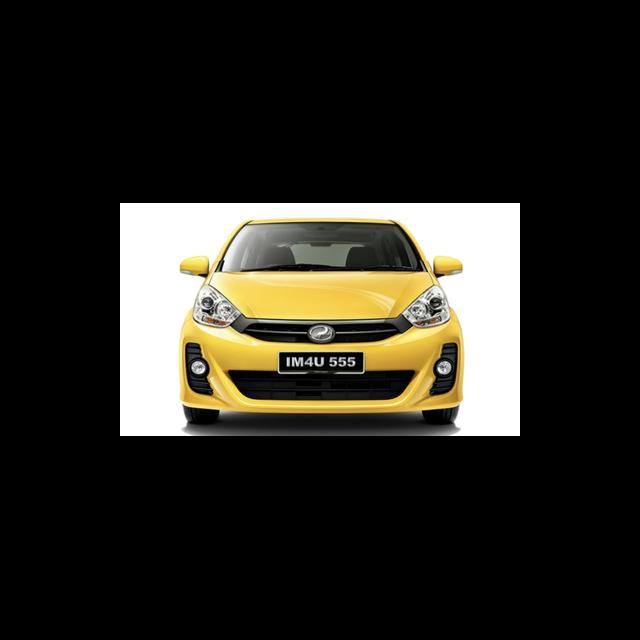Plate: (277, 350, 365, 374)
